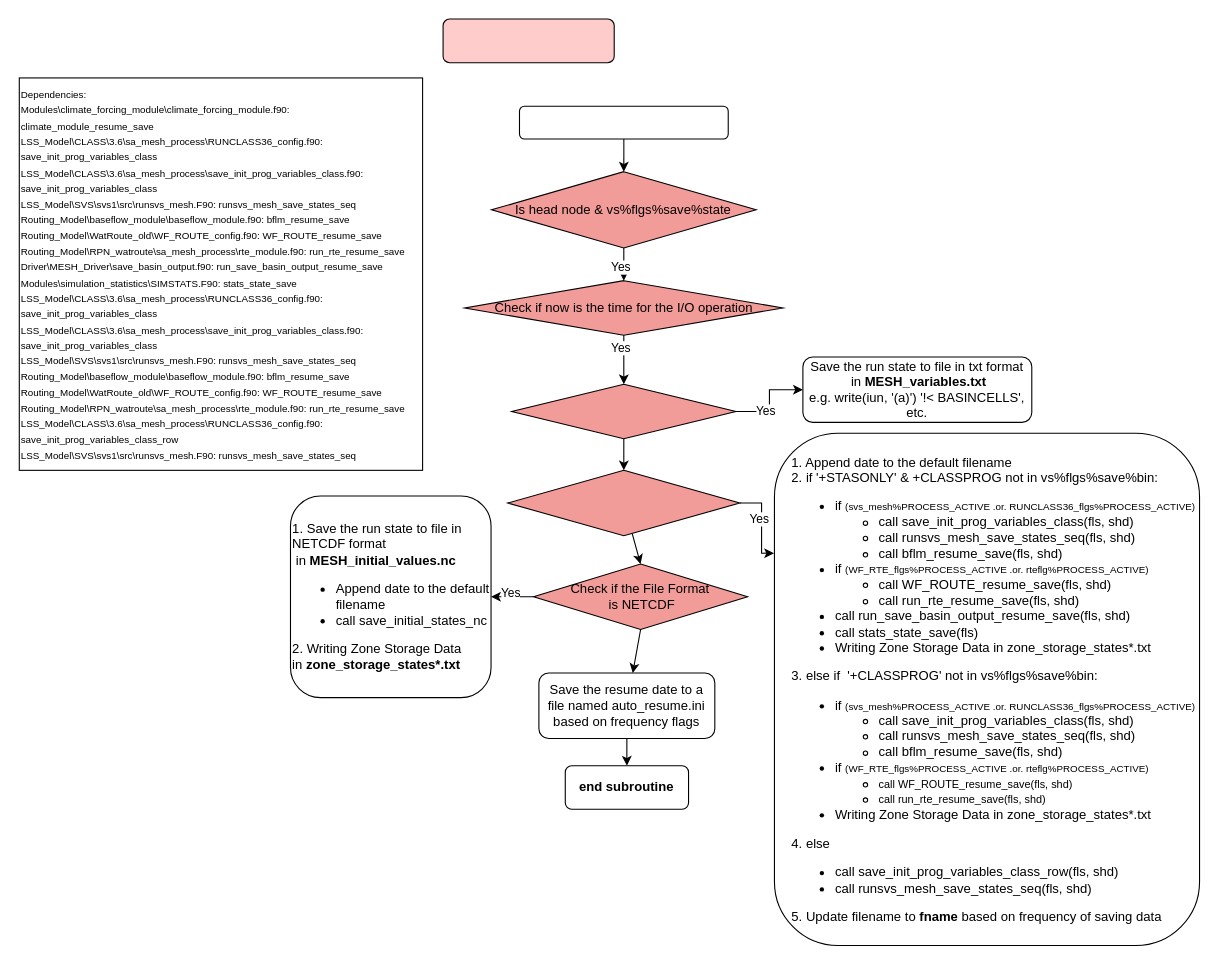
Image size: 1230x965. Some labels were removed from this diagram. Each missing label, with the centre of its shape:
Check if the File Format is Sequential binary: (623,502)
Check if the File Format is Text: (623,411)
resumerun_save(fls, shd): (623,122)
resumerun_save.f90: (528,40)
